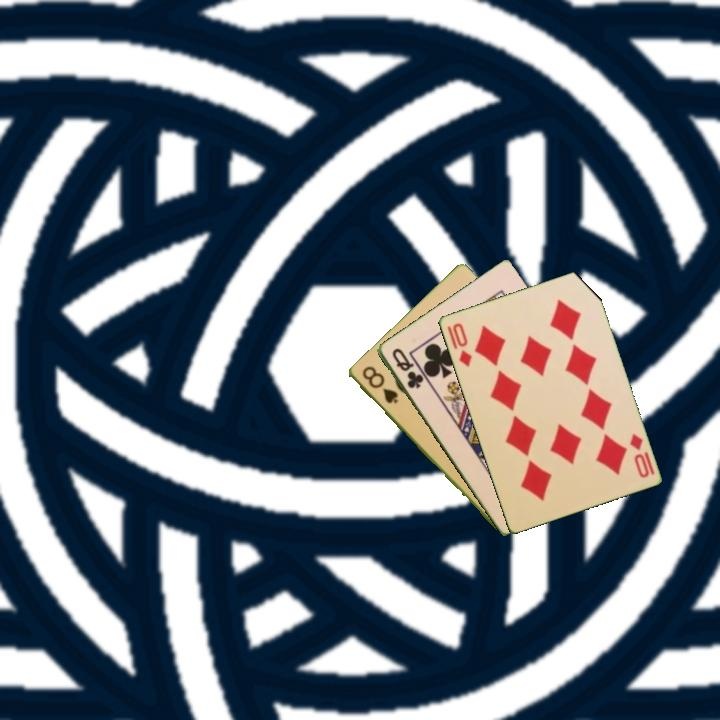10d: (448, 319, 474, 370), (626, 430, 652, 481)
8s: (358, 363, 401, 407)
Qc: (388, 344, 426, 392)
